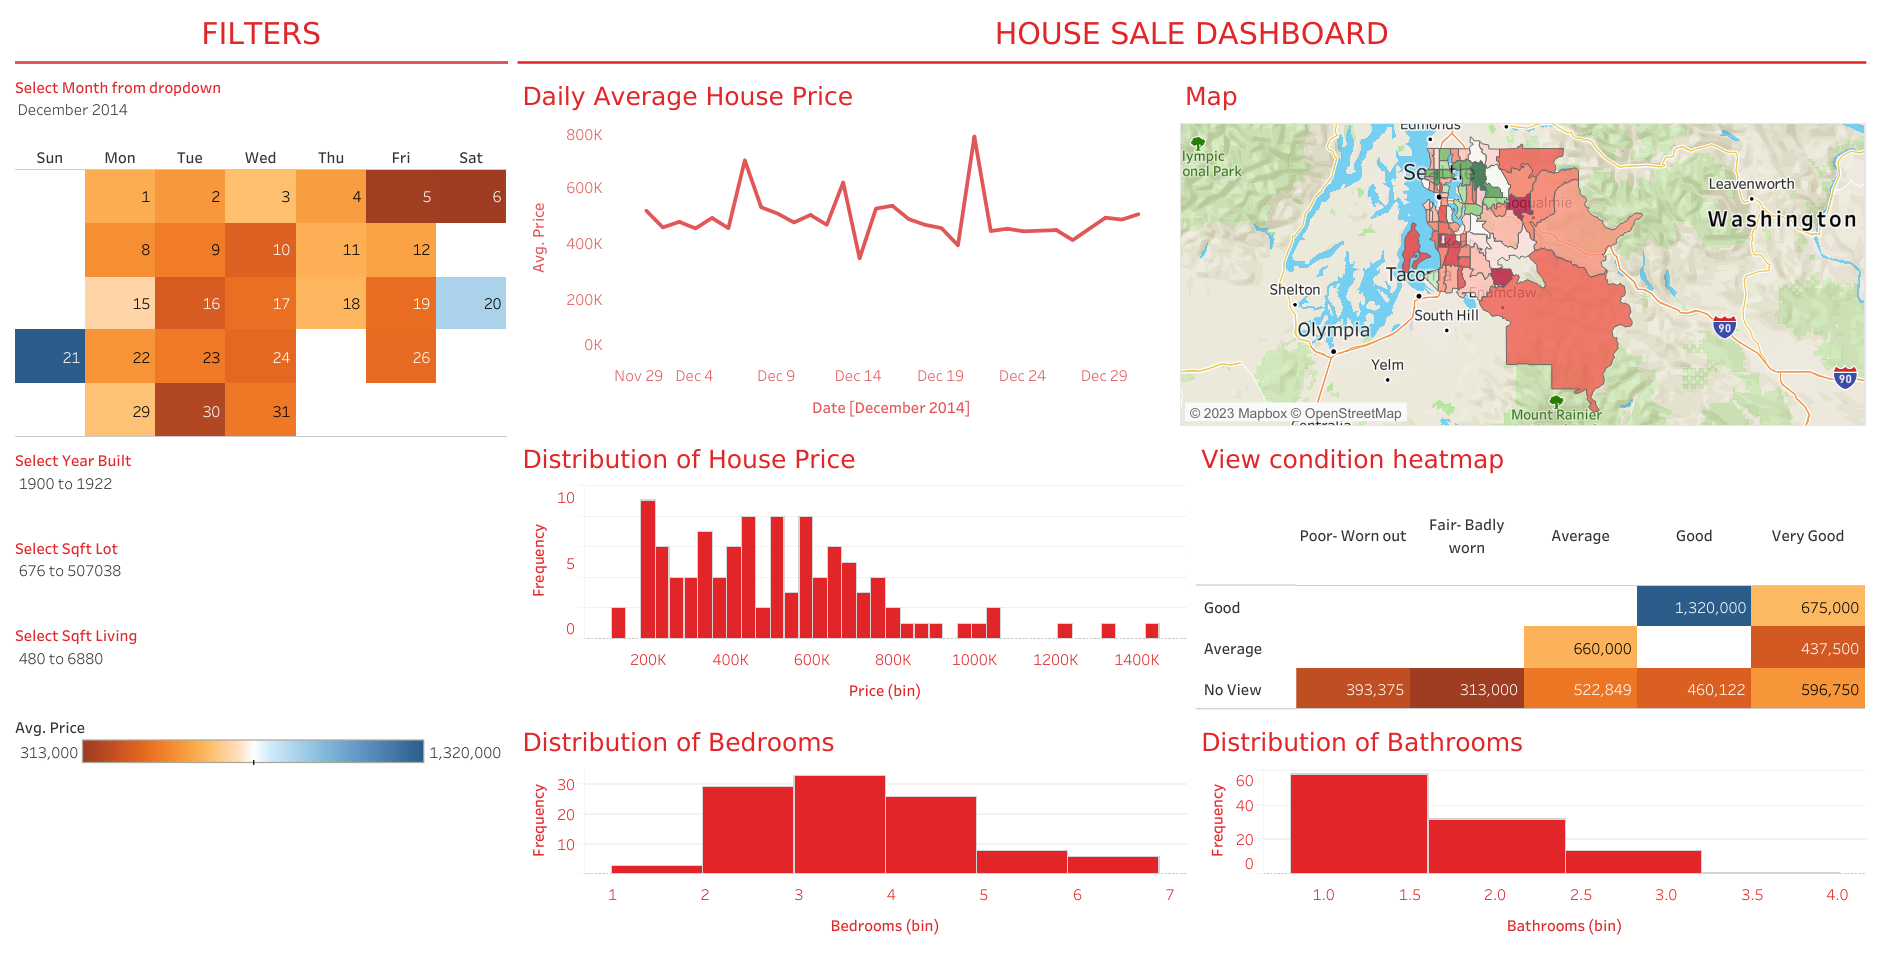

What the dashboard file says about the page in this screenshot:
{"tool":"tableau","page":{"name":"Dashboard 1","canvas":[1000,1000],"units":"permille","ordinal":0},"visuals":[{"type":"text","box":[4.8,9.4,267.4,56.4]},{"type":"text","box":[272.2,9.4,723,56.4]},{"type":"blank","box":[4.8,65.8,267.4,11.8]},{"type":"blank","box":[272.2,65.8,723,11.8]},{"type":"filter","title":"Sheet 7","param":"[federated.0x0ks581dq6car1cv4aw9072cbne].[my:date:ok]","box":[4.8,77.5,267.4,71.7]},{"type":"worksheet","title":"Sheet 1","mark":"Automatic","rows":["price"],"cols":["date"],"box":[272.2,77.5,357,371.3]},{"type":"worksheet","title":"Sheet 2","mark":"Automatic","box":[629.1,77.5,366,371.3]},{"type":"worksheet","title":"Sheet 7","mark":"Square","rows":["date"],"cols":["date"],"box":[4.8,149.2,267.4,285.6]},{"type":"filter","title":"Sheet 7","param":"[federated.0x0ks581dq6car1cv4aw9072cbne].[none:yr_built:qk]","box":[4.8,434.8,267.4,64.6]},{"type":"worksheet","title":"Sheet 3","mark":"Automatic","rows":["price"],"cols":["Price (bin)"],"box":[272.2,448.9,361.5,296.4]},{"type":"worksheet","title":"Sheet 6","mark":"Square","rows":["view"],"cols":["condition"],"box":[633.7,448.9,361.5,296.4]},{"type":"filter","title":"Sheet 7","param":"[federated.0x0ks581dq6car1cv4aw9072cbne].[none:sqft_lot:qk]","box":[4.8,499.4,267.4,64.6]},{"type":"filter","title":"Sheet 7","param":"[federated.0x0ks581dq6car1cv4aw9072cbne].[none:sqft_living:qk]","box":[4.8,564,267.4,64.6]},{"type":"legend","title":"Sheet 6","param":"[federated.0x0ks581dq6car1cv4aw9072cbne].[avg:price:qk]","box":[4.8,628.7,267.4,85.8]},{"type":"worksheet","title":"Sheet 4","mark":"Automatic","rows":["bedrooms"],"cols":["Bedrooms (bin)"],"box":[272.2,745.3,361.5,245.3]},{"type":"worksheet","title":"Sheet 5","mark":"Automatic","rows":["bathrooms"],"cols":["Bathrooms (bin)"],"box":[633.7,745.3,361.5,245.3]}]}

Visuals, with their boxes on the dashboard's canvas, which has no fixed pixel size, in thousandths of its width and height (x1, y1, x2, y2). These are canvas units, not pixel positions in the 1880x959 screenshot, which may show the page scaled, cropped or inside an application window:
text: [5, 9, 272, 66]
text: [272, 9, 995, 66]
blank: [5, 66, 272, 78]
blank: [272, 66, 995, 78]
"Sheet 7" filter: [5, 78, 272, 149]
"Sheet 1" worksheet: [272, 78, 629, 449]
"Sheet 2" worksheet: [629, 78, 995, 449]
"Sheet 7" worksheet (Square marks): [5, 149, 272, 435]
"Sheet 7" filter: [5, 435, 272, 499]
"Sheet 3" worksheet: [272, 449, 634, 745]
"Sheet 6" worksheet (Square marks): [634, 449, 995, 745]
"Sheet 7" filter: [5, 499, 272, 564]
"Sheet 7" filter: [5, 564, 272, 629]
"Sheet 6" legend: [5, 629, 272, 714]
"Sheet 4" worksheet: [272, 745, 634, 991]
"Sheet 5" worksheet: [634, 745, 995, 991]
